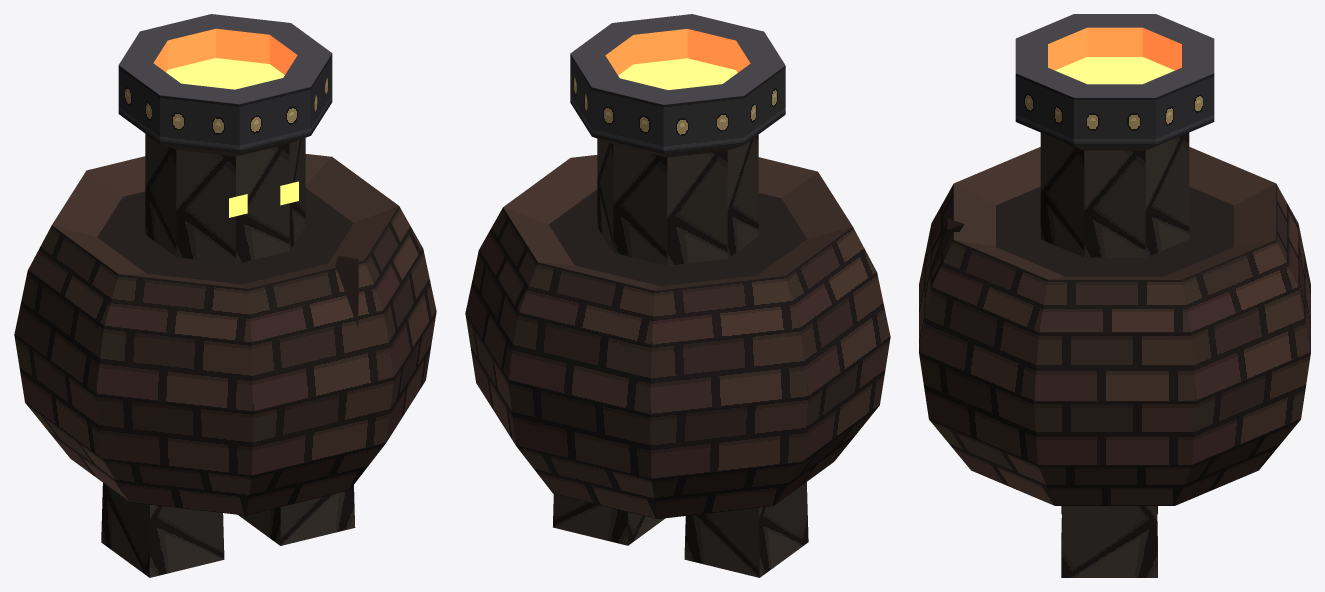
Rendered from enemy_spitter.glb.
The picture shows the model from 3 angles, left to right: view 1: azimuth 30°, elevation 25°; view 2: azimuth 150°, elevation 25°; view 3: azimuth 270°, elevation 25°; orthographic projection.
Visible parts, largest first — view 1: enemy_spitter; view 2: enemy_spitter; view 3: enemy_spitter.
Part boxes in pixels (bbox=[...]): enemy_spitter: bbox=[14, 14, 436, 577]; enemy_spitter: bbox=[465, 14, 890, 577]; enemy_spitter: bbox=[919, 14, 1310, 577].
Bounding box in the file's own units: 0.7299 × 0.97 × 0.7299.
Materials: 1 (1 with a texture image).
